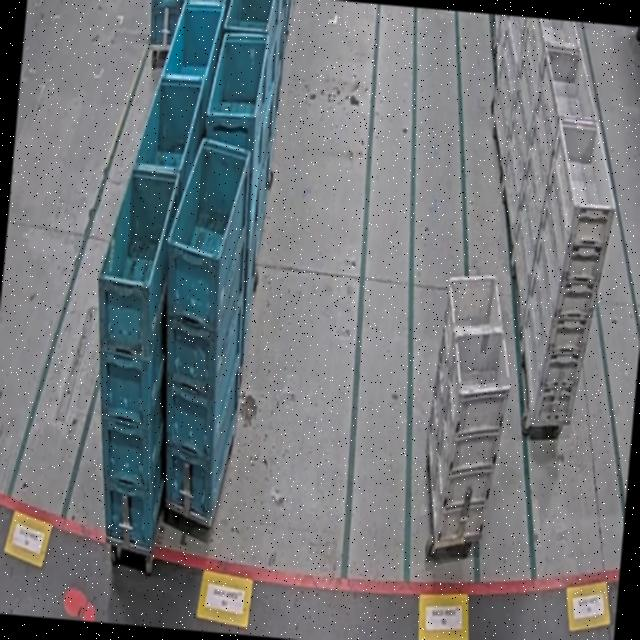6G: (512, 120, 620, 436)
8G: (420, 268, 520, 550)
B4: (142, 134, 264, 520), (74, 168, 192, 554)
